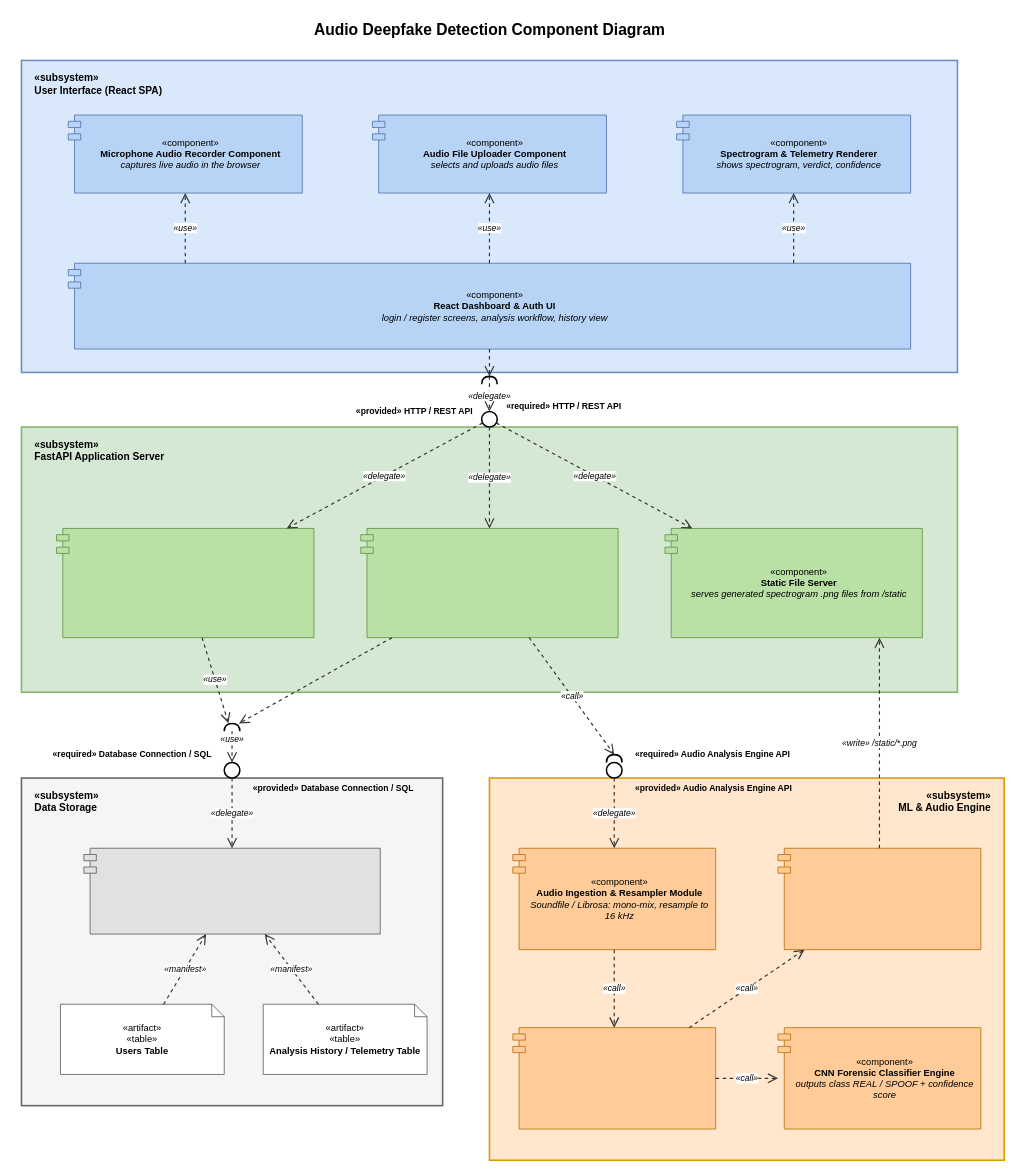
Some shapes in this 1018 by 1174 pixel diagram are drawn without their labels. The shapes that lost their labels are listed below. From the top down, each one's centre as x and y in pixels, then its label:
pixel 185 583: «component» FastAPI Router & Auth Handler /api/login, /api/register
pixel 489 583: «component» Analysis Controller /api/analyze, /api/history
pixel 231 890: «component» SQLite Relational Database audioguard.db
pixel 879 898: «component» Matplotlib Headless Renderer Magma heatmaps saved to /static
pixel 614 1078: «component» Mel-Spectrogram Feature Extractor STFT, 64 Mel bands, power_to_db
